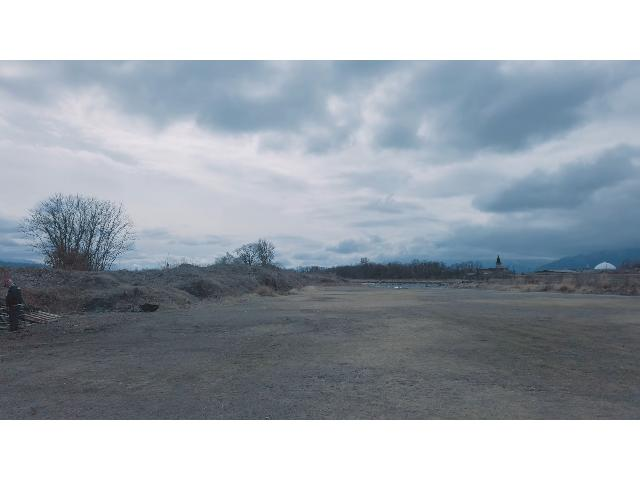Anti-Drone: (384, 284, 410, 292)
